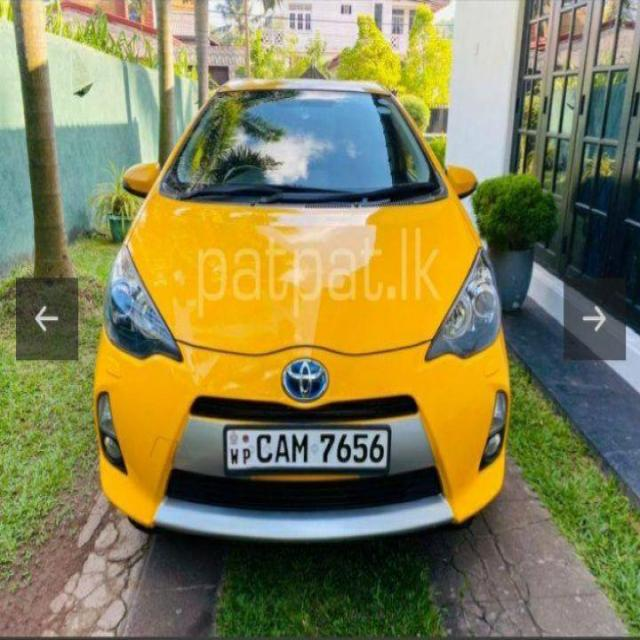license-plate: (226, 426, 387, 466)
